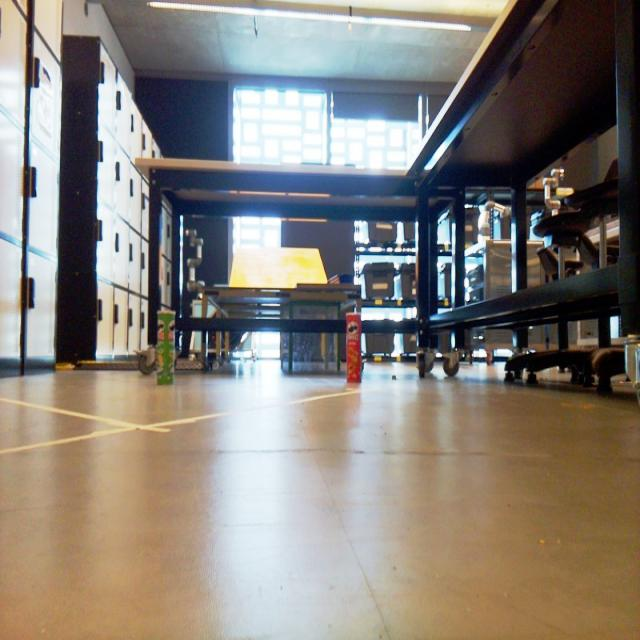greenpringles: (142, 293, 188, 394)
redpringles: (340, 297, 374, 413)
